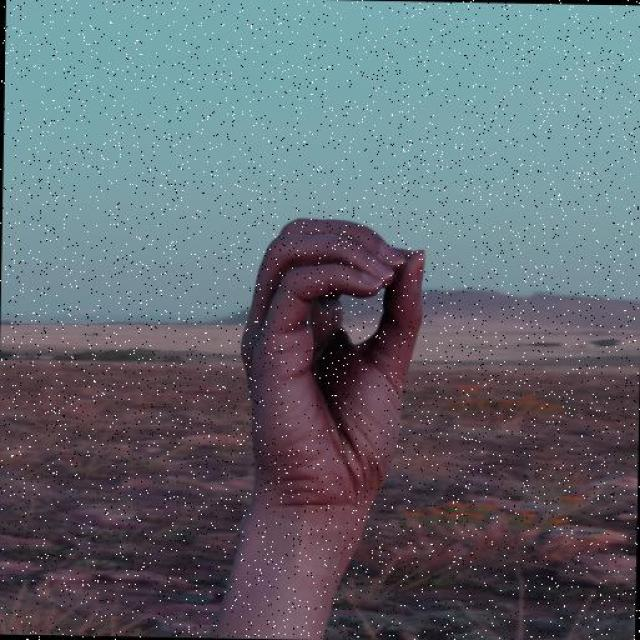O: (234, 212, 427, 517)
